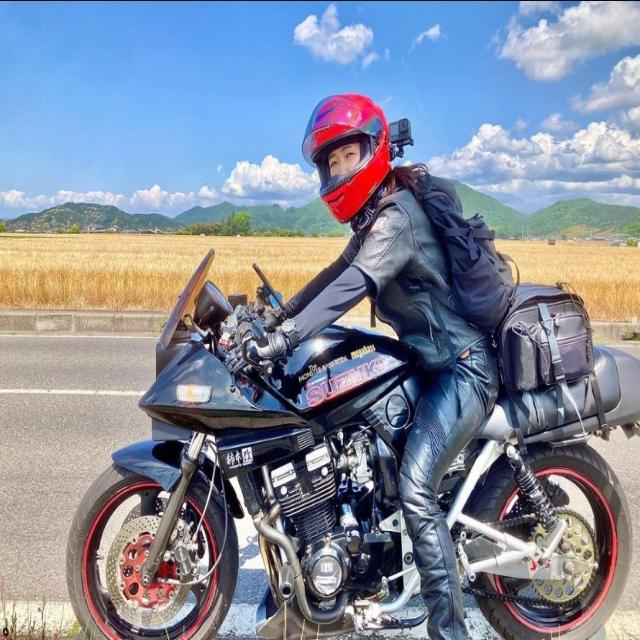helmet: (298, 89, 393, 228)
